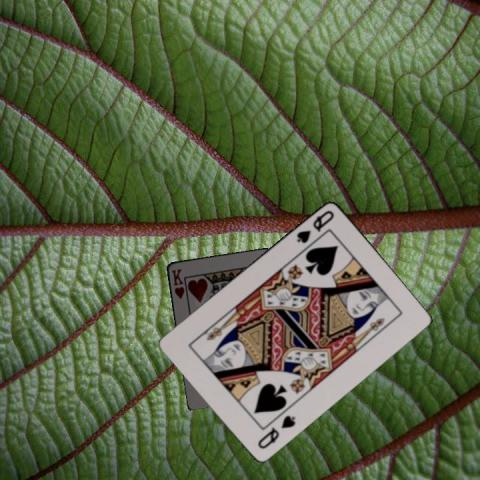Kh: (168, 266, 186, 300)
Qs: (255, 411, 297, 450), (294, 206, 335, 244)
